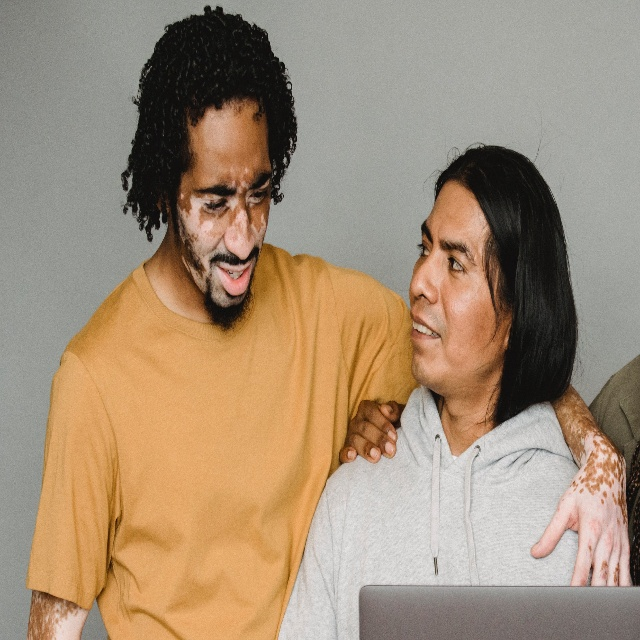Sin_guantes: (530, 449, 633, 587), (337, 399, 405, 463)
